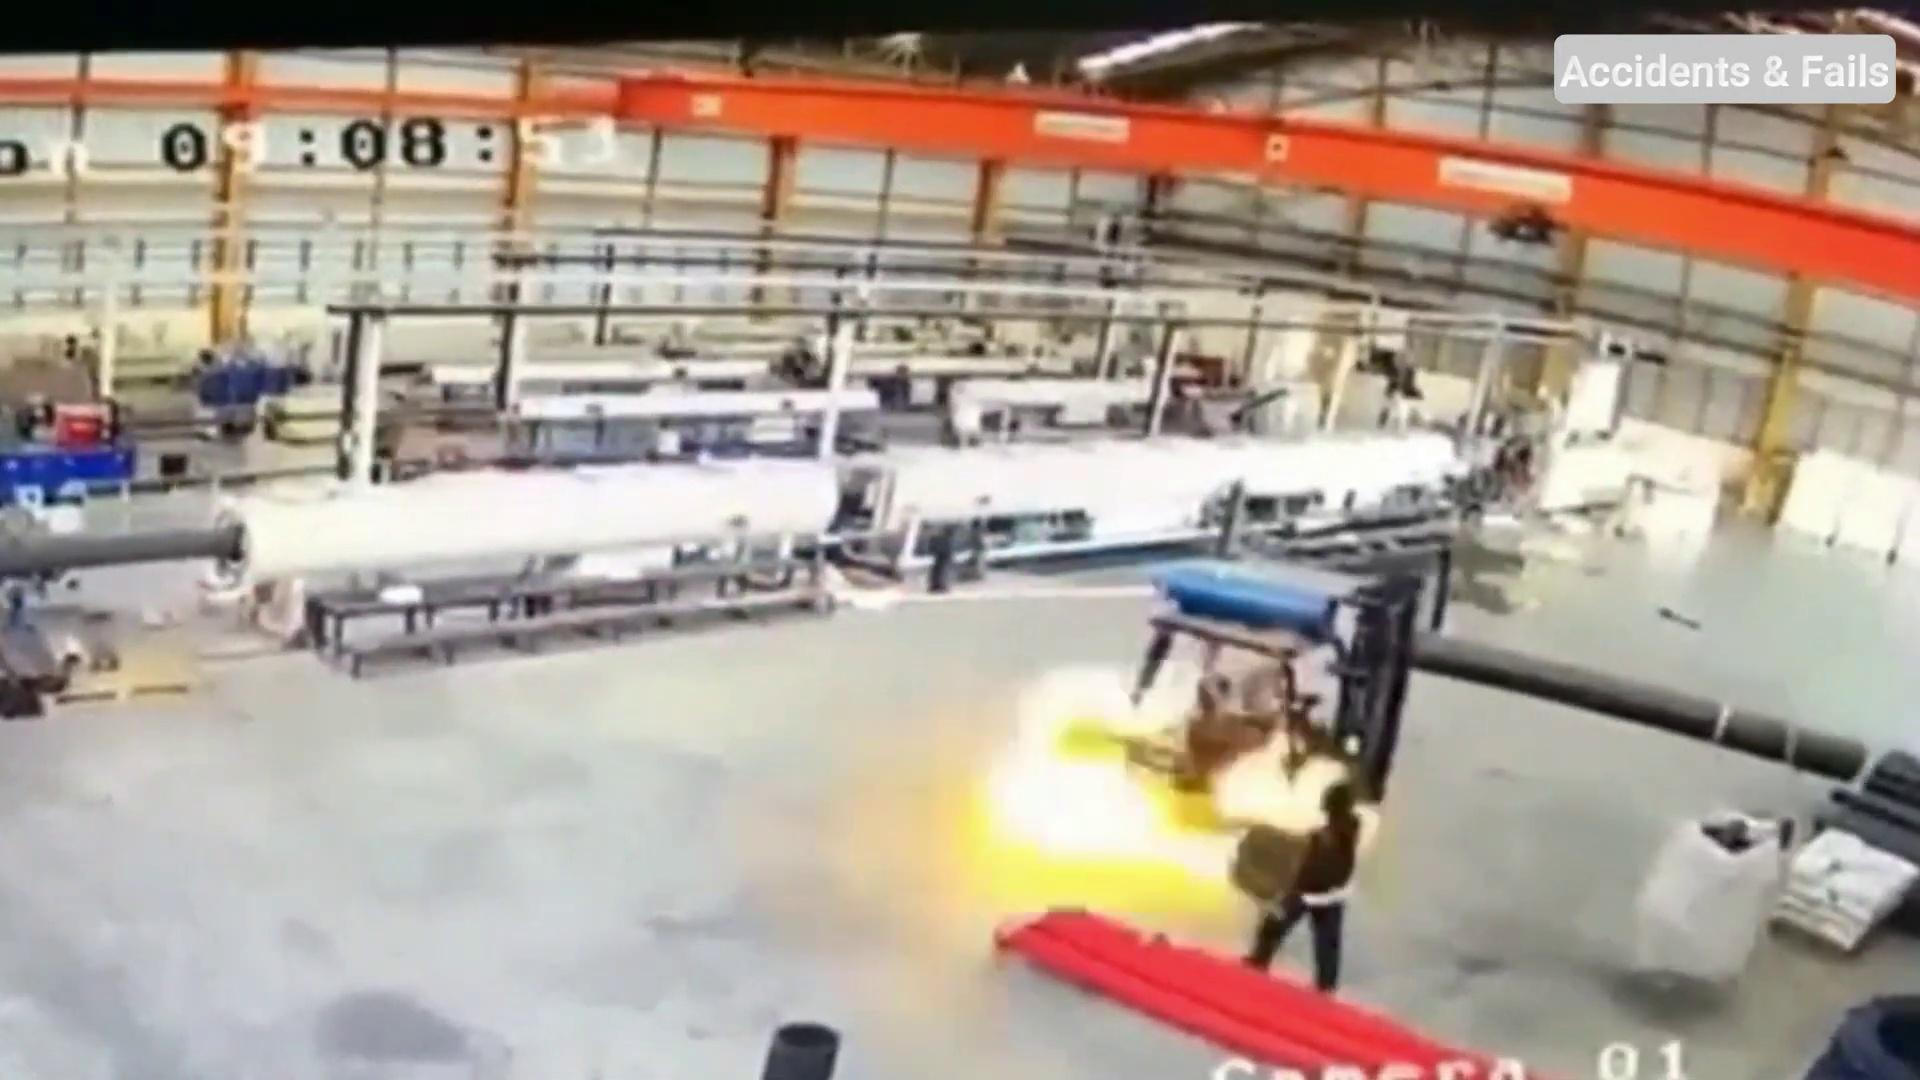fire: (924, 464, 1476, 972)
